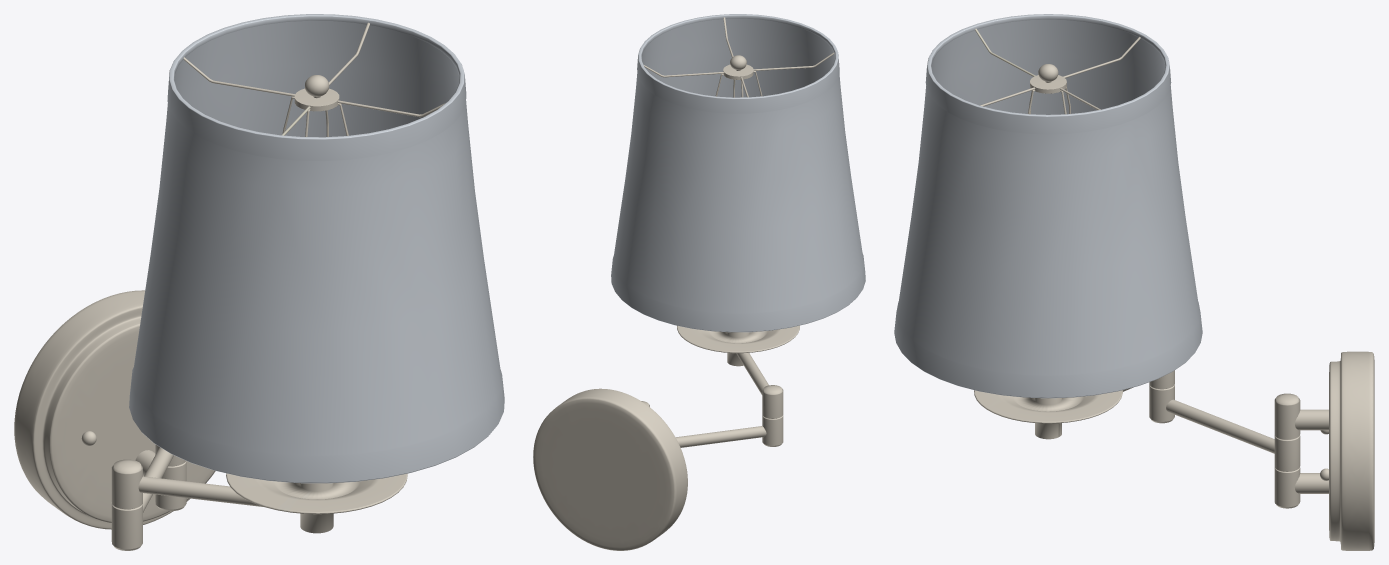
The model's file is abo-B07MF1S1WL.glb.
3 renders of one model, left to right at view 1: azimuth 30°, elevation 25°; view 2: azimuth 150°, elevation 25°; view 3: azimuth 270°, elevation 25°, orthographic. The views are drawn at different scales.
Bounding box in the file's own units: 0.223 × 0.381 × 0.348.
Materials: 1 (1 with a texture image).
